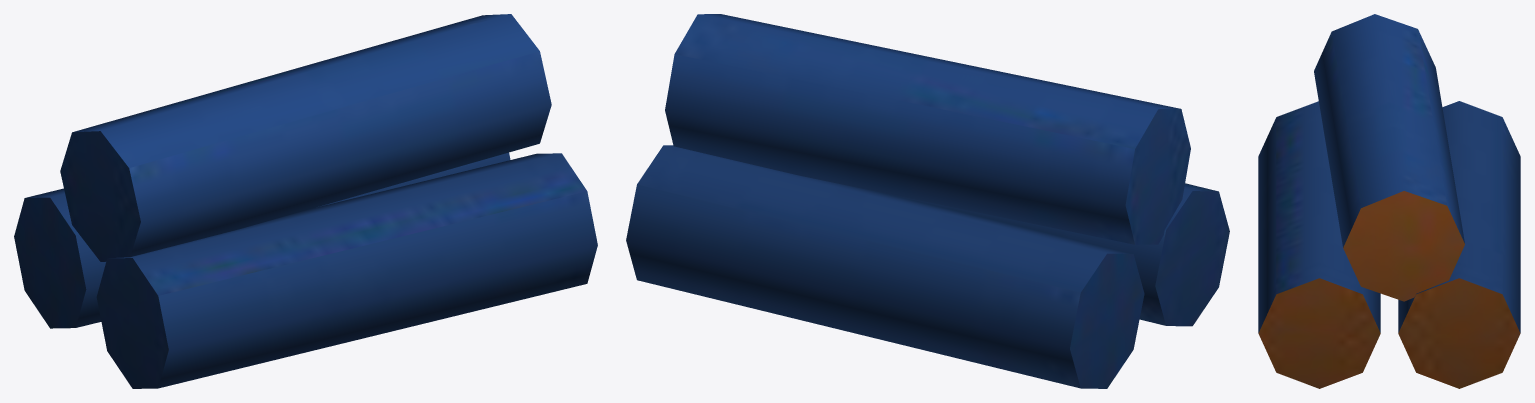
File: superconductor.glb
3 views of the same model, side by side, from view 1: azimuth 30°, elevation 25°; view 2: azimuth 150°, elevation 25°; view 3: azimuth 270°, elevation 25° (orthographic). The views are drawn at different scales.
Visible parts, largest first — view 1: superconductor; view 2: superconductor; view 3: superconductor.
Boxes of the visible parts, x1=… form: superconductor: x1=14, y1=14, x2=597, y2=388; superconductor: x1=626, y1=14, x2=1229, y2=388; superconductor: x1=1258, y1=14, x2=1520, y2=388.
Size of the model in its own units: 0.2443 by 0.125 by 0.15.
1 material, 1 textured.
